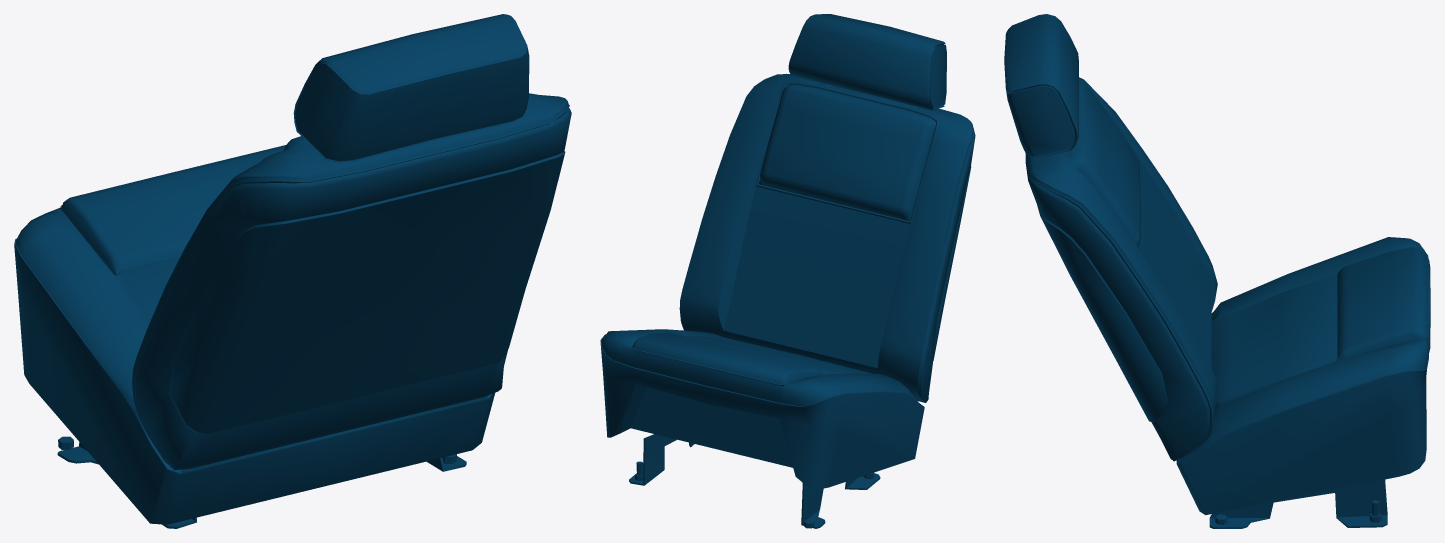
The model's file is seat.glb.
3 views of the same model, side by side, from view 1: azimuth 30°, elevation 25°; view 2: azimuth 150°, elevation 25°; view 3: azimuth 270°, elevation 25° (orthographic). The views are drawn at different scales.
Parts seen in each view (by area): view 1: meshId0_name; view 2: meshId0_name; view 3: meshId0_name.
Part boxes in pixels (x1,y1,x2,y2): meshId0_name: (14, 14, 571, 528); meshId0_name: (600, 14, 975, 528); meshId0_name: (1004, 14, 1430, 528).
Size of the model in its own units: 0.0138 by 0.02 by 0.0182.
